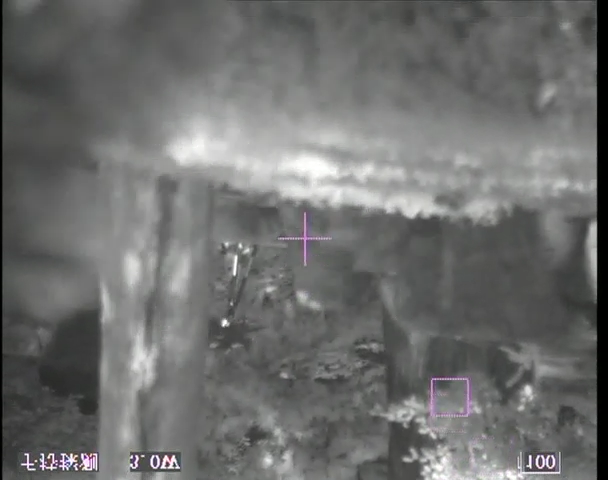my: (219, 317, 229, 328)
